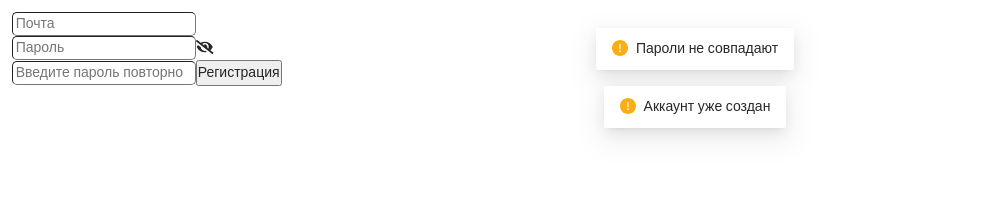
Scenario: registration › user registration
This screenshot has width=981, height=216.
Type "alex@gmail.com" into the field with placeholder "Почта" at point(104, 24), box [12, 12, 196, 36]
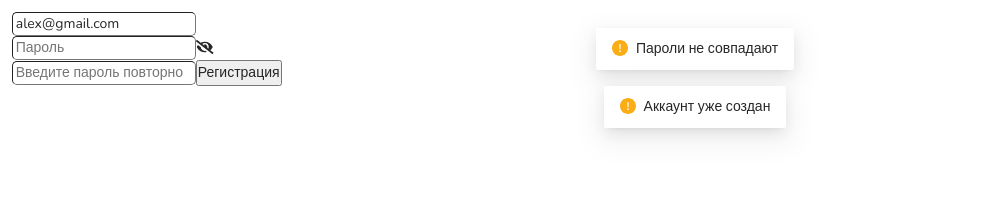
Type "12" into the password field with placeholder "Пароль" at point(104, 48), box [12, 36, 196, 60]
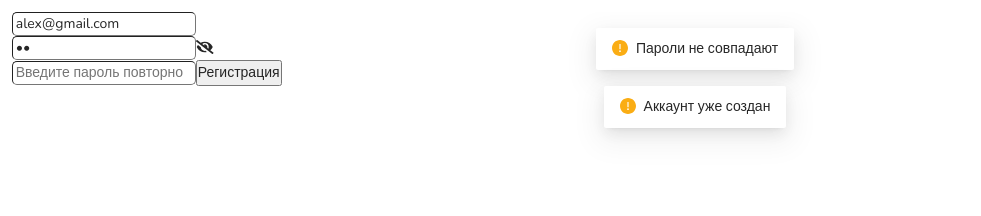
Type "12" into the password field with placeholder "Введите пароль повторно" at point(104, 73), box [12, 61, 196, 85]
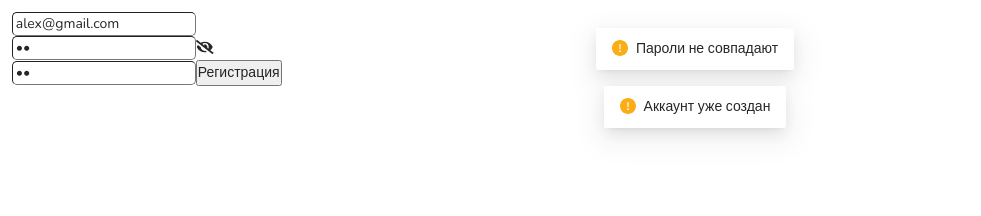
Click the button at point(239, 73), box [196, 60, 282, 86]
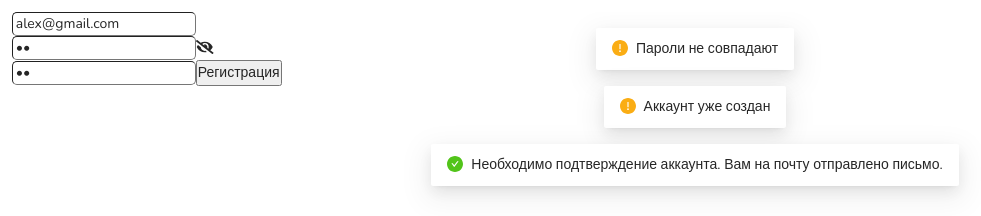
expect the text "Необходимо подтверждение аккаунта" is shown: met, box [471, 155, 943, 174]
